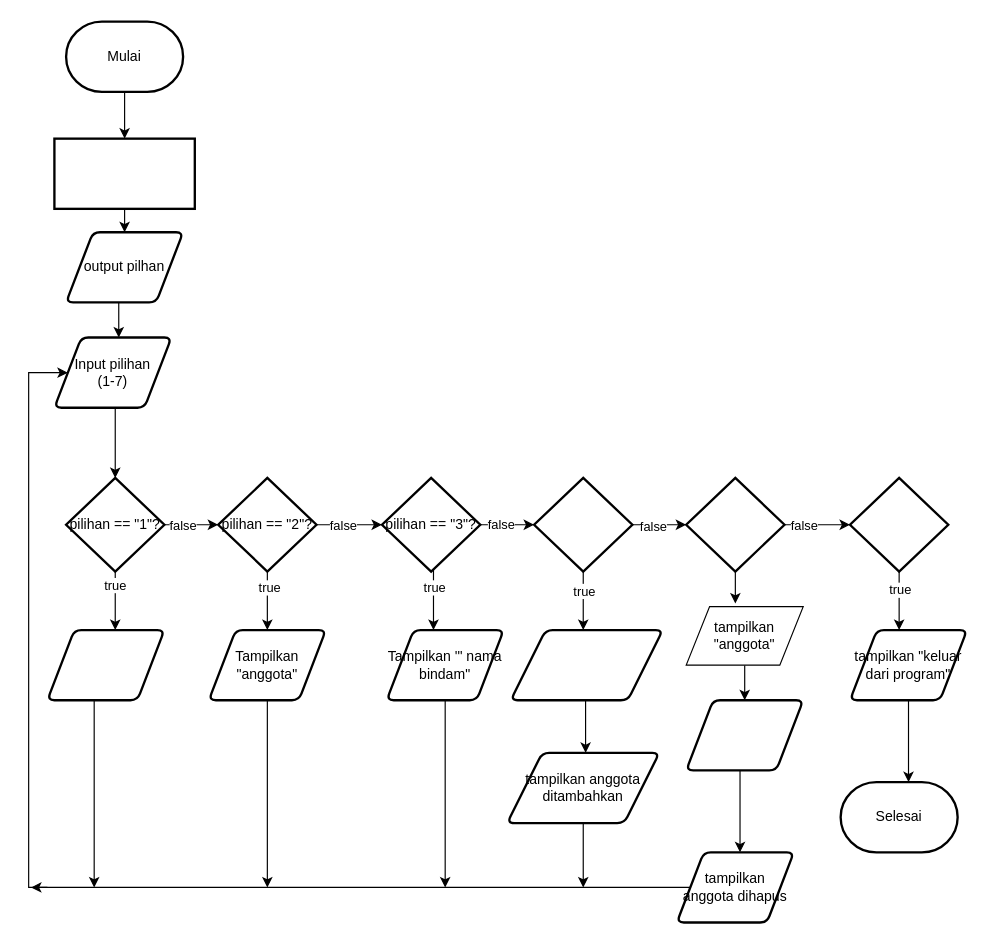
The diagram is 989 pixels wide and 943 high, and some of its shapes have lost their labels. Each missing label, with the centre of its shape:
anggota = [ list nama ]: [124,173]
input menambahkan anggota: [586,664]
input menghapus anggota: [744,734]
pilihan == "4"?: [582,524]
pilihan == "5"?: [734,524]
pilihan == "6"?: [898,524]
tampilan "identitas dan filosofi": [105,664]
